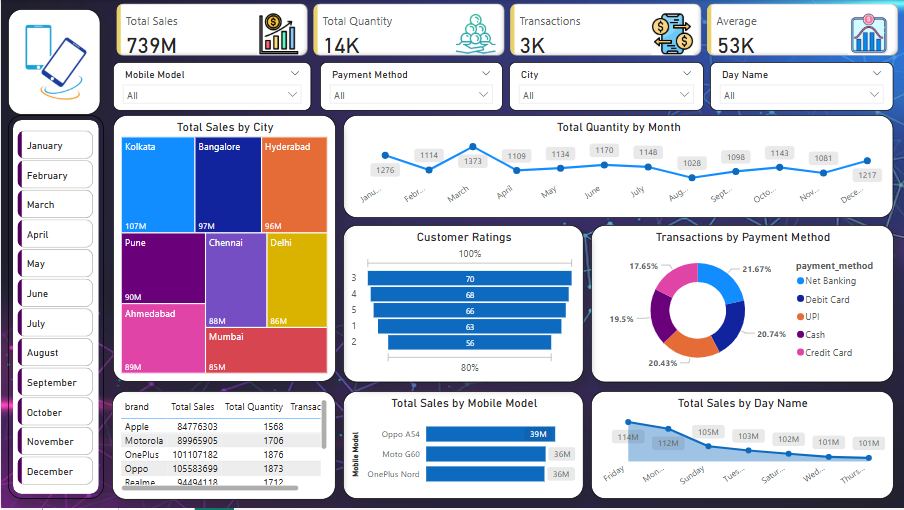

This screenshot's page, from the dashboard's own definition file:
{"tool":"powerbi","page":{"name":"Page 1","canvas":[1280,720],"ordinal":0},"visuals":[{"type":"shape","box":[10,12.9,131.4,150],"z":0},{"type":"image","box":[22.9,24.3,110,128.6],"z":1000},{"type":"shape","box":[10,162.9,135.7,544.3],"z":2000},{"type":"advancedSlicerVisual","fields":{"Values":["SalesData.Date.Variation.Date Hierarchy.Month"]},"box":[18.6,180,117.1,514.3],"z":3000},{"type":"cardVisual","fields":{"Data":["SalesData.Total Sales","SalesData.Total Quantity","SalesData.Transactions","SalesData.Average"]},"box":[158.6,0,1121.4,84.3],"z":4000},{"type":"lineChart","fields":{"Category":["SalesData.Date.Variation.Date Hierarchy.Month","SalesData.Date.Variation.Date Hierarchy.Day"],"Y":["SalesData.Total Quantity"]},"box":[484.3,162.9,780,145.7],"z":5000},{"type":"clusteredBarChart","title":"Total Sales by Mobile Model","fields":{"Category":["SalesData.mobile_model"],"Y":["SalesData.Total Sales"]},"box":[484.3,554.3,341.4,152.9],"z":7000},{"type":"donutChart","title":"Transactions by Payment Method","fields":{"Category":["SalesData.payment_method"],"Y":["SalesData.Transactions"]},"box":[835.7,318.6,428.6,222.9],"z":8000},{"type":"funnel","title":"Customer Ratings","fields":{"Category":["SalesData.customer_rating"],"Y":["CountNonNull(SalesData.customer_rating)"]},"box":[484.3,318.6,341.4,222.9],"z":9000},{"type":"areaChart","title":"Total Sales by Day Name","fields":{"Category":["SalesData.day_name"],"Y":["SalesData.Total Sales"]},"box":[835.7,554.3,428.6,152.9],"z":10000},{"type":"tableEx","fields":{"Values":["SalesData.brand","SalesData.Total Sales","SalesData.Total Quantity","SalesData.Transactions"]},"box":[157.1,554.3,317.1,154.3],"z":11000},{"type":"slicer","fields":{"Values":["SalesData.mobile_model"]},"box":[158.6,88.6,281.4,68.6],"z":12000},{"type":"slicer","fields":{"Values":["SalesData.payment_method"]},"box":[451.4,88.6,258.6,68.6],"z":13000},{"type":"slicer","fields":{"Values":["SalesData.city"]},"box":[720,88.6,275.7,68.6],"z":14000},{"type":"slicer","fields":{"Values":["SalesData.day_name"]},"box":[1004.3,88.6,260,68.6],"z":15000},{"type":"treemap","title":"Total Sales by City","fields":{"Group":["SalesData.city"],"Values":["SalesData.Total Sales"]},"box":[158.7,163,316.1,378.4],"z":16001}]}

Visuals, with their boxes in screenshot pixels (x1, y1, x2, y2), scaled from the page's 1280x720 canvas onto the 904x510 screenshot:
shape: (x1=7, y1=9, x2=100, y2=115)
image: (x1=16, y1=17, x2=94, y2=108)
shape: (x1=7, y1=115, x2=103, y2=501)
advancedSlicerVisual - SalesData.Date.Variation.Date Hierarchy.Month: (x1=13, y1=128, x2=96, y2=492)
cardVisual - SalesData.Total Sales x SalesData.Total Quantity: (x1=112, y1=0, x2=903, y2=60)
lineChart - SalesData.Date.Variation.Date Hierarchy.Month x SalesData.Date.Variation.Date Hierarchy.Day: (x1=342, y1=115, x2=893, y2=219)
"Total Sales by Mobile Model" clusteredBarChart: (x1=342, y1=393, x2=583, y2=501)
"Transactions by Payment Method" donutChart: (x1=590, y1=226, x2=893, y2=384)
"Customer Ratings" funnel: (x1=342, y1=226, x2=583, y2=384)
"Total Sales by Day Name" areaChart: (x1=590, y1=393, x2=893, y2=501)
tableEx - SalesData.brand x SalesData.Total Sales: (x1=111, y1=393, x2=335, y2=502)
slicer - SalesData.mobile_model: (x1=112, y1=63, x2=311, y2=111)
slicer - SalesData.payment_method: (x1=319, y1=63, x2=501, y2=111)
slicer - SalesData.city: (x1=509, y1=63, x2=703, y2=111)
slicer - SalesData.day_name: (x1=709, y1=63, x2=893, y2=111)
"Total Sales by City" treemap: (x1=112, y1=115, x2=335, y2=383)
